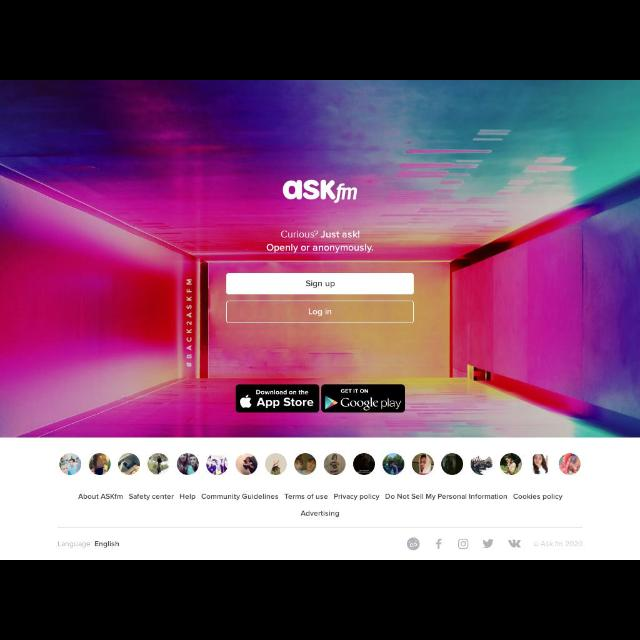backgroundimage: (1, 81, 638, 438)
icon: (406, 538, 420, 550), (482, 538, 494, 550), (508, 539, 522, 549), (458, 539, 468, 549), (436, 539, 442, 549)
image: (282, 180, 358, 206), (470, 453, 496, 475), (207, 452, 230, 476), (88, 454, 112, 476), (118, 453, 140, 477), (176, 454, 200, 476), (558, 453, 582, 475), (59, 454, 82, 476), (441, 453, 464, 475), (501, 454, 524, 476), (236, 454, 258, 476), (266, 453, 288, 475), (294, 454, 316, 476), (324, 454, 346, 476), (354, 454, 376, 476), (383, 453, 405, 475), (412, 453, 434, 475), (530, 454, 552, 476), (148, 454, 170, 474), (324, 394, 338, 410), (239, 394, 253, 408)
text: (78, 493, 564, 503), (266, 230, 374, 253), (340, 396, 402, 412), (256, 396, 314, 409), (56, 540, 120, 548), (256, 388, 308, 396), (533, 540, 583, 548), (299, 509, 339, 518), (306, 279, 334, 289), (308, 308, 334, 316), (340, 388, 370, 394)
textbutton: (226, 273, 414, 295), (226, 302, 414, 324), (236, 383, 320, 412), (321, 384, 405, 412)
